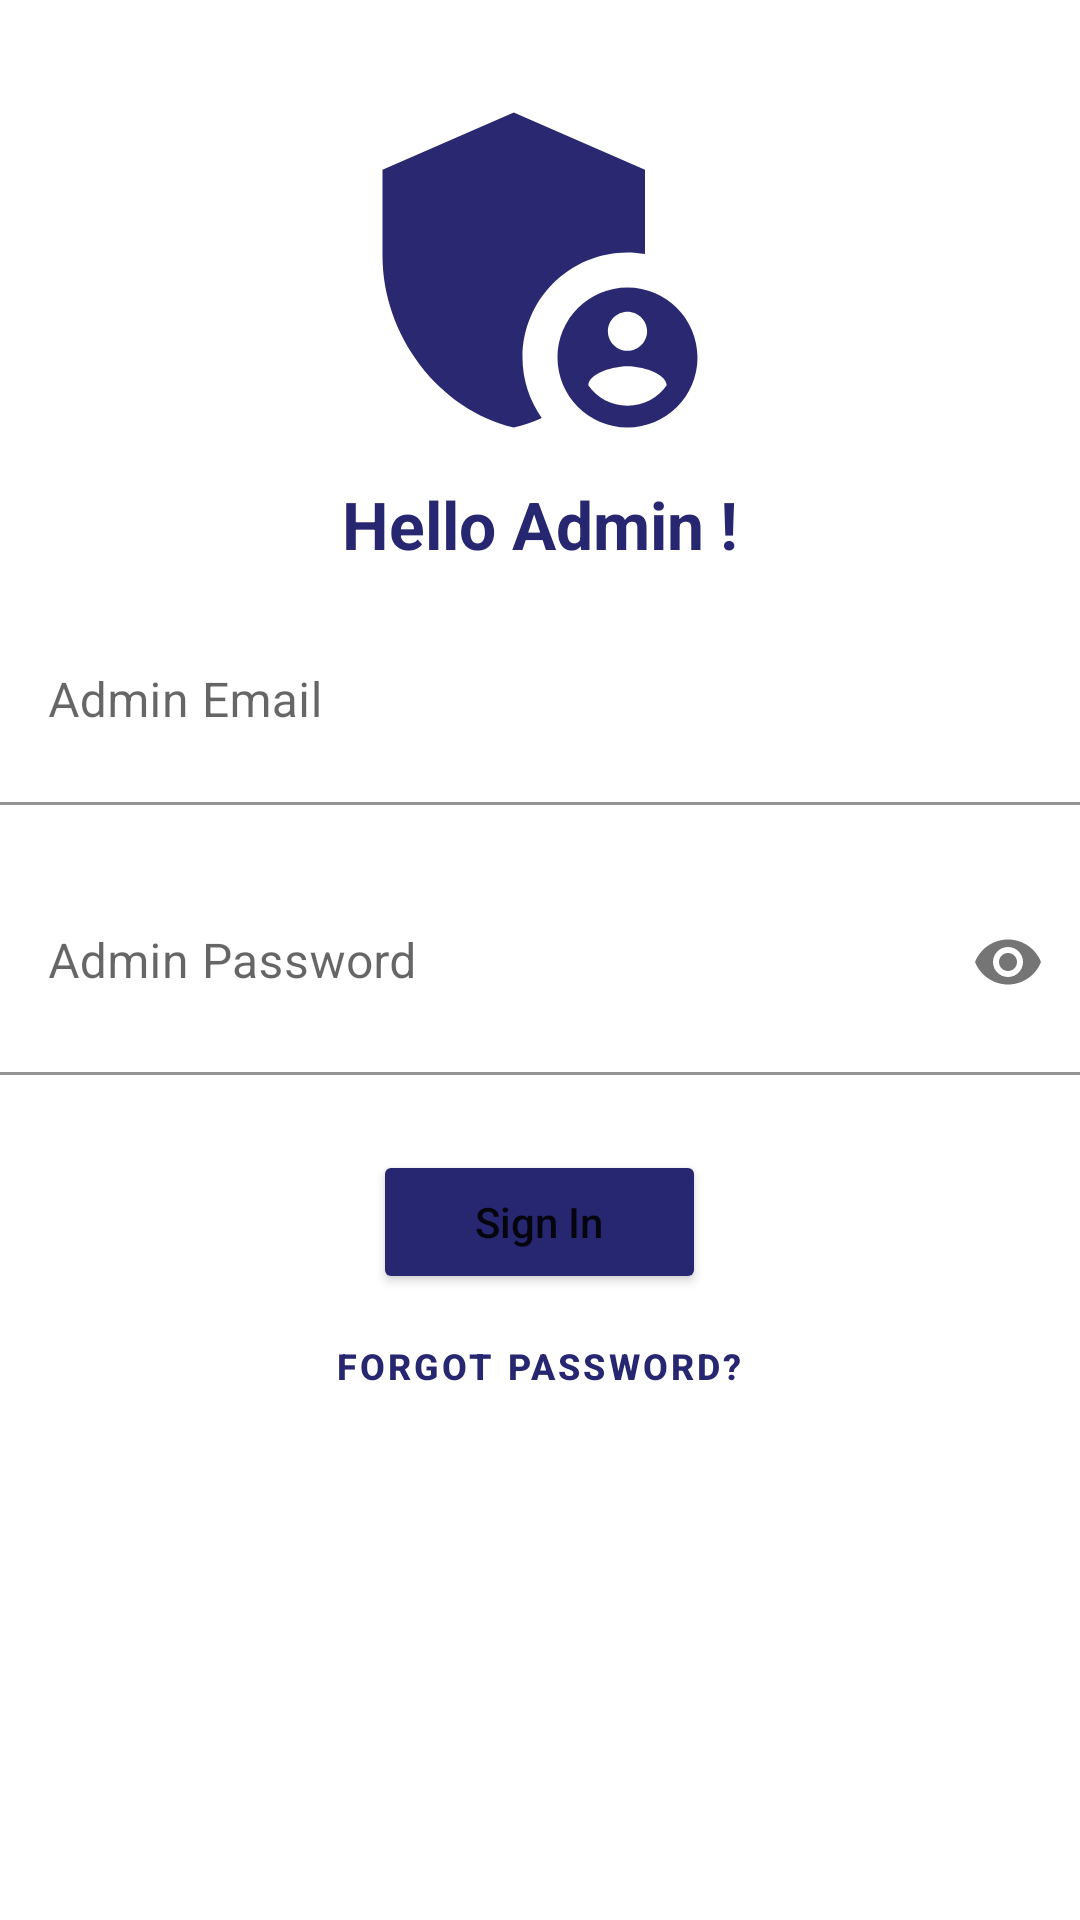

Locate icon controls on the screen. Image size 1080x1920, boxes as bbox(x1, y1, x2, y2).
admin panel settings: bbox(382, 112, 698, 428)
